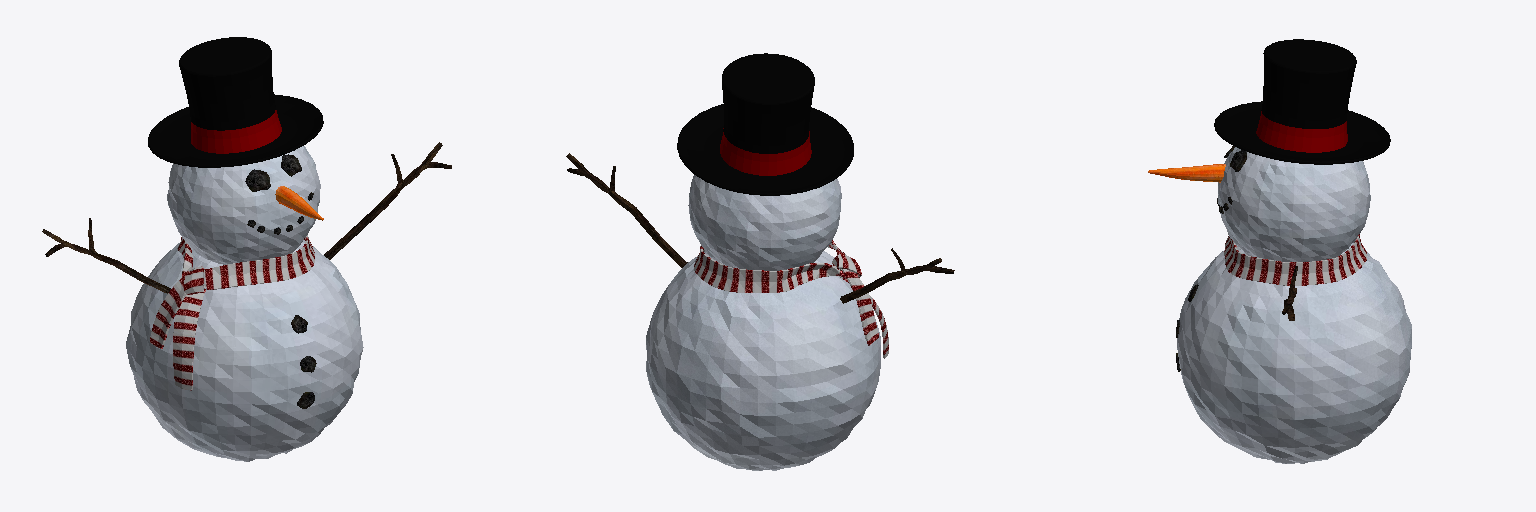
3 renders of one model, left to right at view 1: azimuth 30°, elevation 25°; view 2: azimuth 150°, elevation 25°; view 3: azimuth 270°, elevation 25°, orthographic.
Visible parts, largest first — view 1: mu��ecop_de_nieve_mu��eco_de_nieve_0; view 2: mu��ecop_de_nieve_mu��eco_de_nieve_0; view 3: mu��ecop_de_nieve_mu��eco_de_nieve_0.
Part boxes in pixels (x1,y1,x2,y2): mu��ecop_de_nieve_mu��eco_de_nieve_0: (42, 37, 451, 461); mu��ecop_de_nieve_mu��eco_de_nieve_0: (566, 53, 954, 470); mu��ecop_de_nieve_mu��eco_de_nieve_0: (1148, 39, 1411, 463).
Bounding box in the file's own units: 2.65 × 2.53 × 1.53.
Materials: 1 (1 with a texture image).